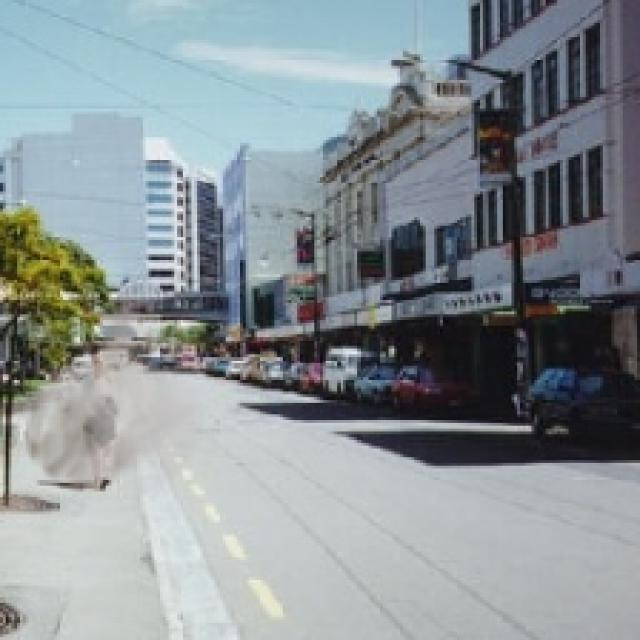smoke: (6, 288, 214, 512)
